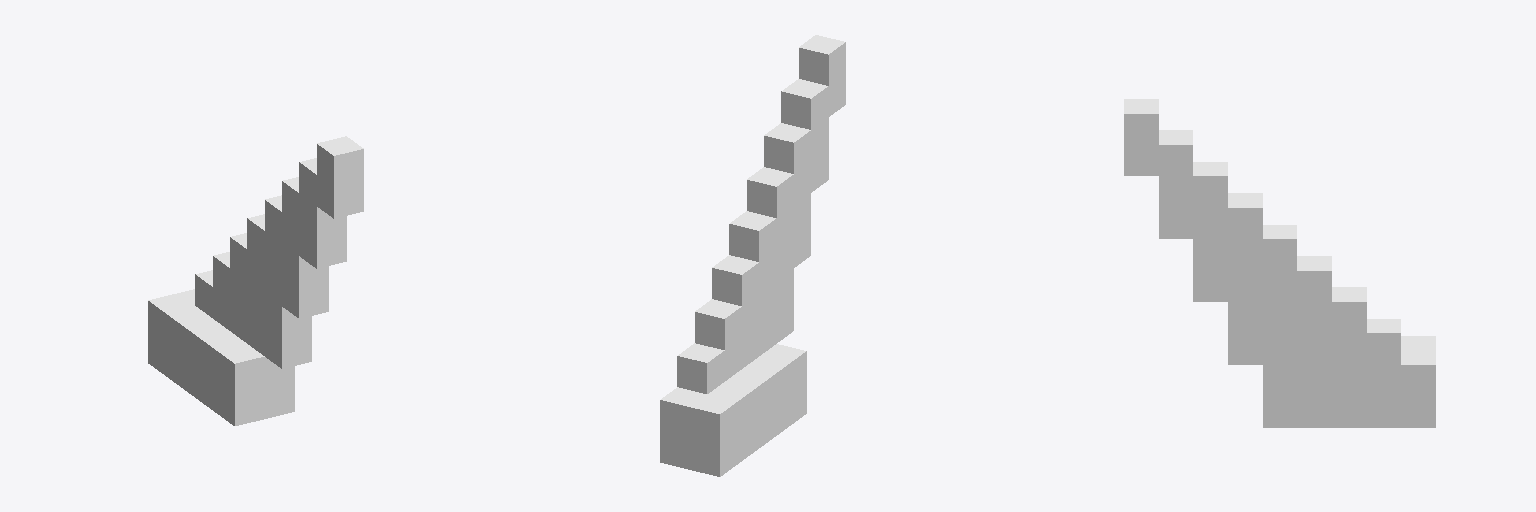
File: Wingback1.obj
3 renders of one model, left to right at view 1: azimuth 30°, elevation 25°; view 2: azimuth 150°, elevation 25°; view 3: azimuth 270°, elevation 25°, orthographic.
Visible parts, largest first — view 1: object 1; view 2: object 1; view 3: object 1.
Boxes of the visible parts, <box> form: object 1: <box>148,136,363,425</box>; object 1: <box>660,35,845,476</box>; object 1: <box>1124,99,1435,427</box>.
Size of the model in its own units: 0.2 by 1 by 0.9.